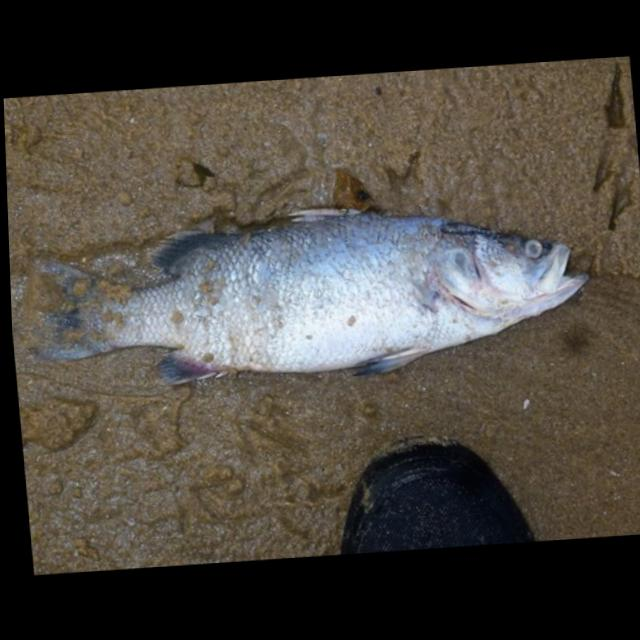Seabass: (25, 187, 595, 400)
